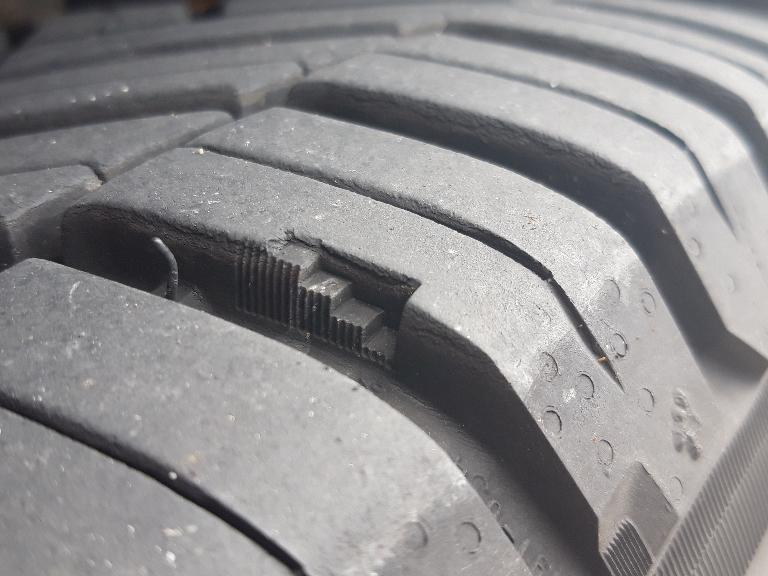temoin:90: (222, 217, 432, 396)
